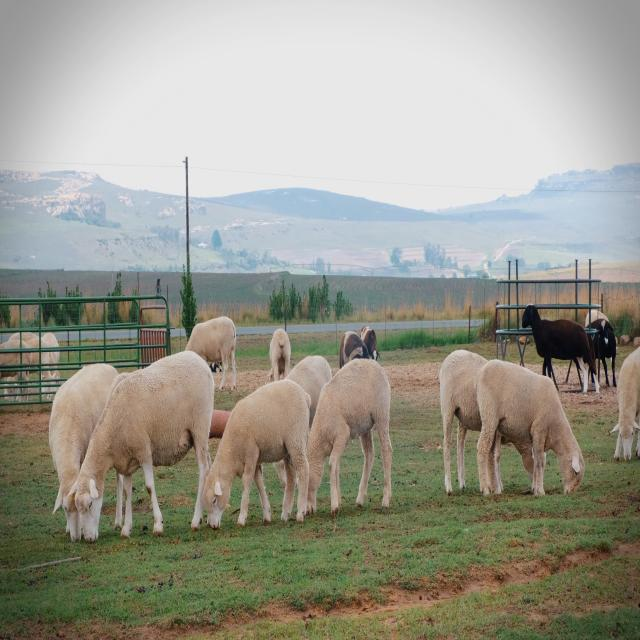sheep: (74, 357, 213, 552), (472, 334, 592, 520), (207, 367, 317, 547), (606, 341, 640, 474)
